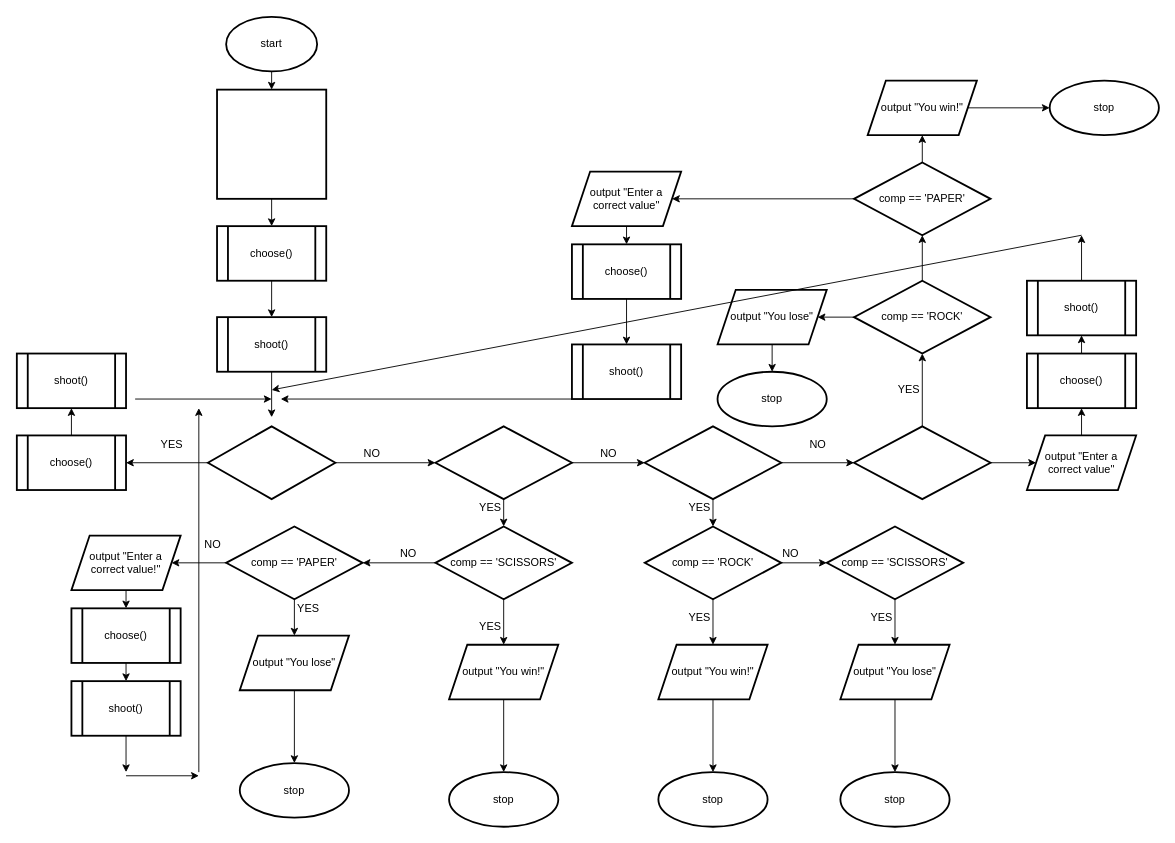
This 1175x843 diagram has some shape labels left out. Each missing label, with the centre of its shape:
"Declarations string user string comp shoot() choose()" belongs at pixel 271 143.
"user == 'PAPER'" belongs at pixel 712 462.
"user == 'ROCK'" belongs at pixel 503 462.
"user == 'SCISSORS'" belongs at pixel 922 462.
"user == comp" belongs at pixel 271 462.
